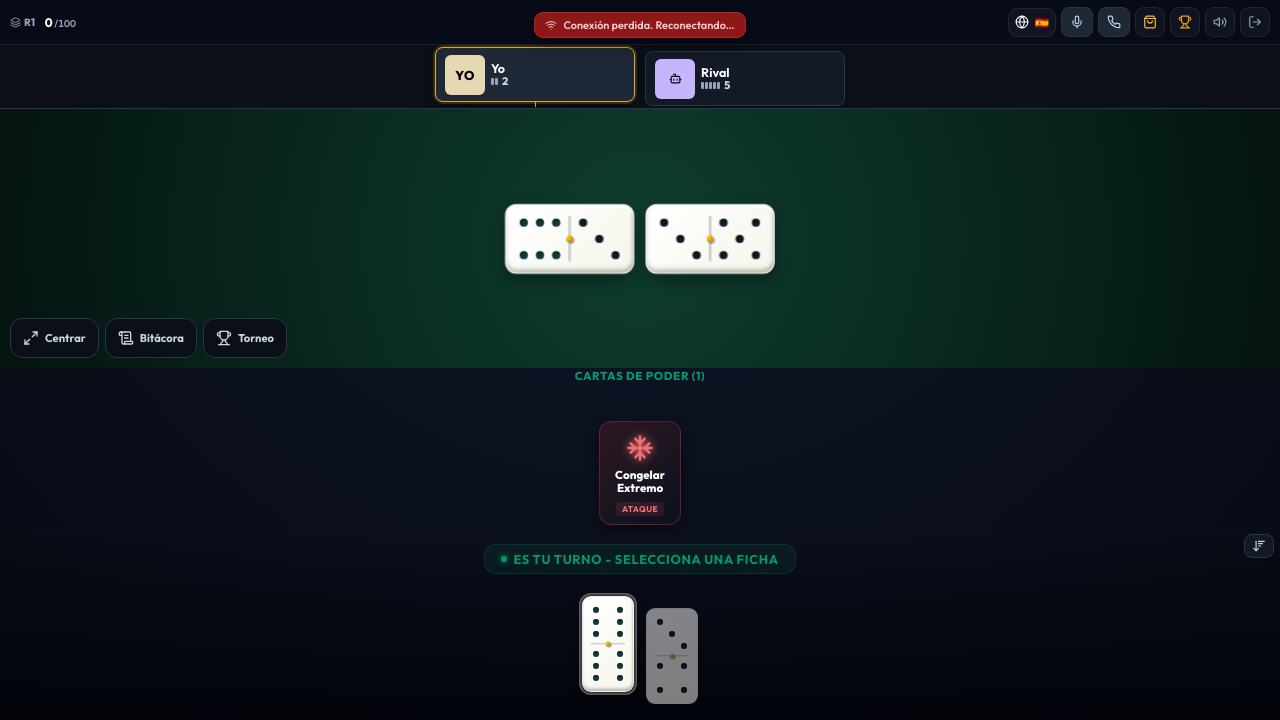
Partida · las cinco rutas de poderes › la carta de poder sigue apuntando desde la fila montada en la mesa
Click the button "Congelar Extremo Ataque" at (640, 463), box top-left (599, 401), bottom-right (681, 525)
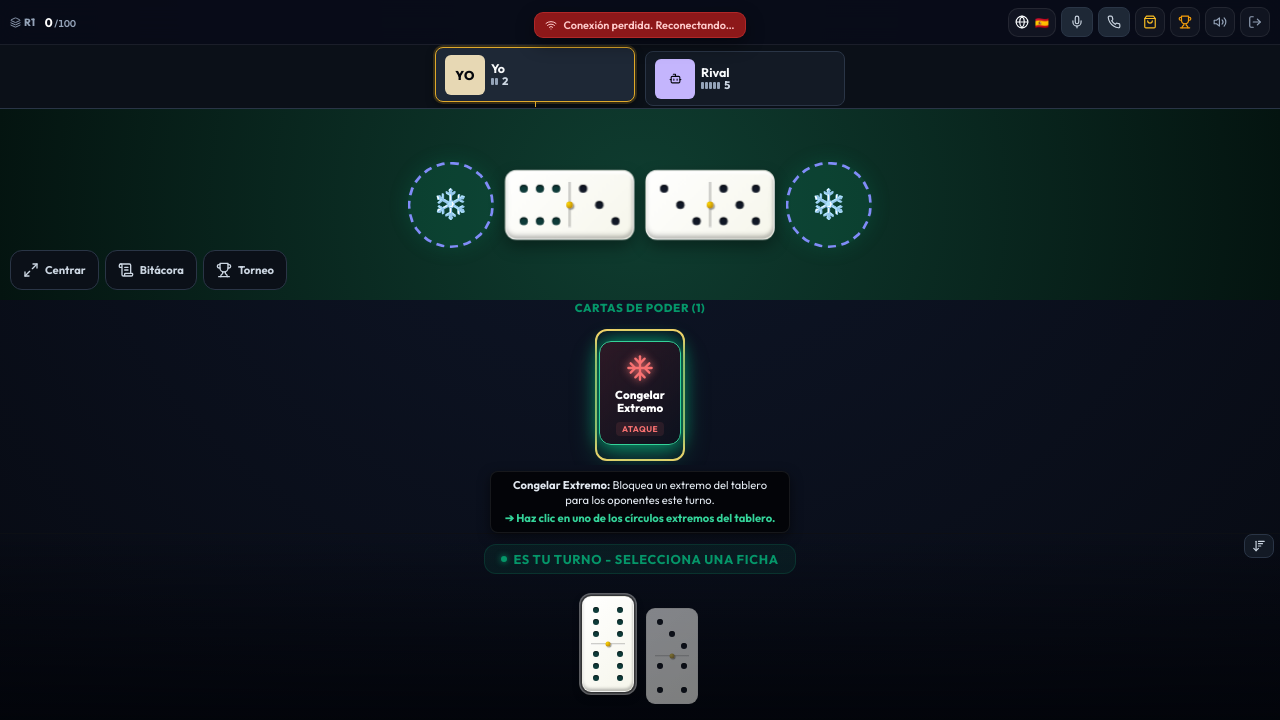
Expected: the number of buttons with class "board-placeholder-circle" is 2, top-left (408, 161), bottom-right (494, 248); top-left (786, 161), bottom-right (872, 248)
